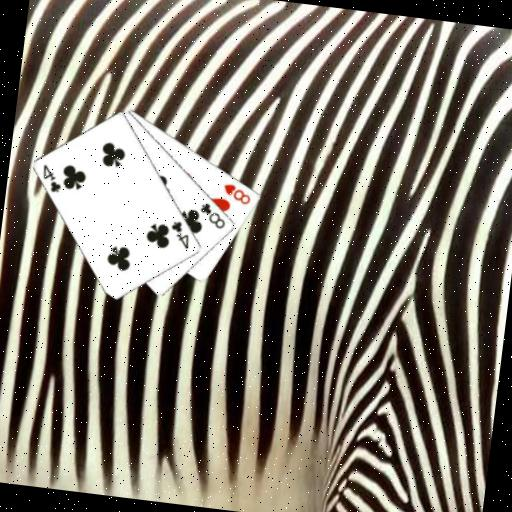4C: (166, 217, 194, 251), (38, 161, 66, 195)
8C: (195, 199, 230, 231)
8H: (219, 180, 254, 207)
